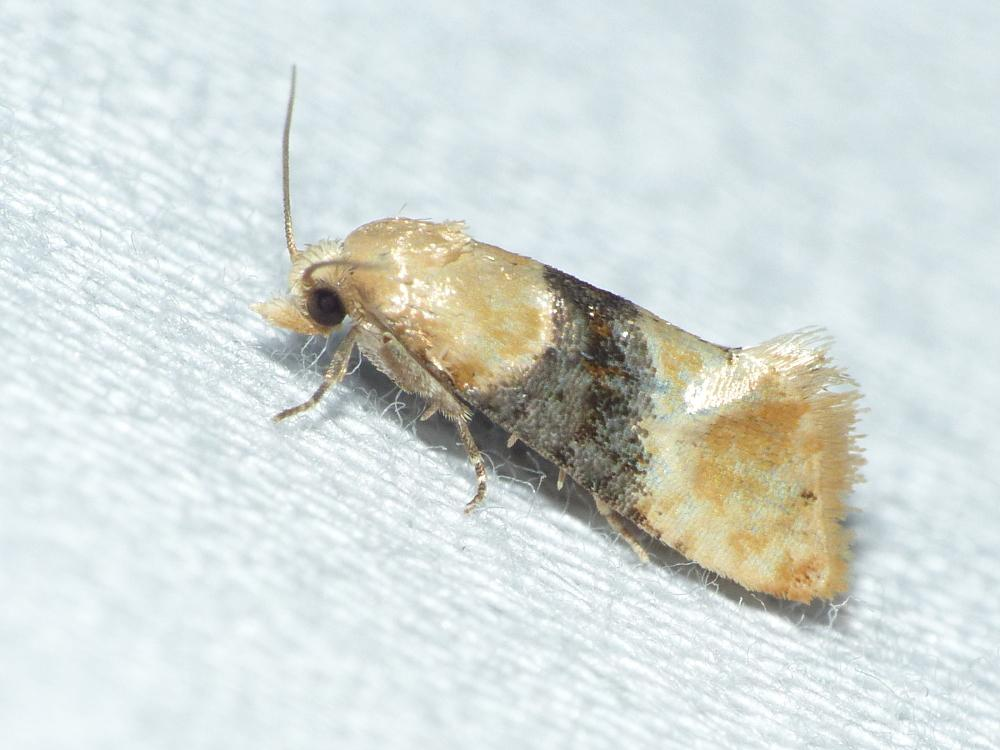Eupoecilia Ambiguella: (250, 62, 871, 608)
